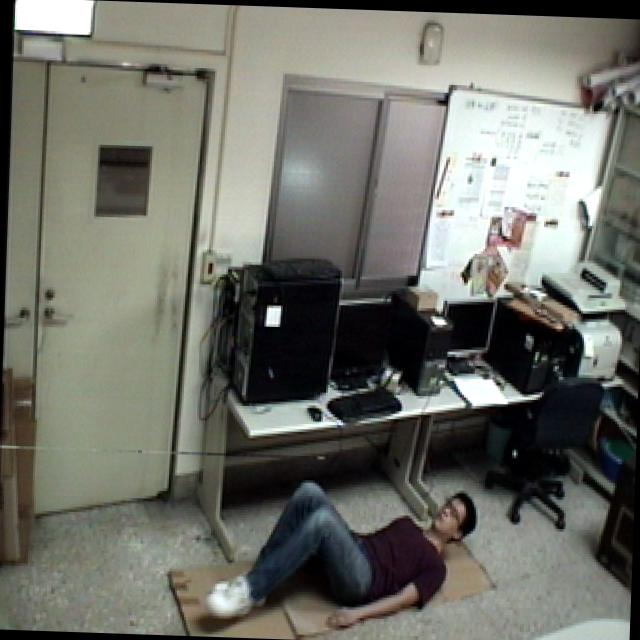lie: (196, 474, 479, 640)
